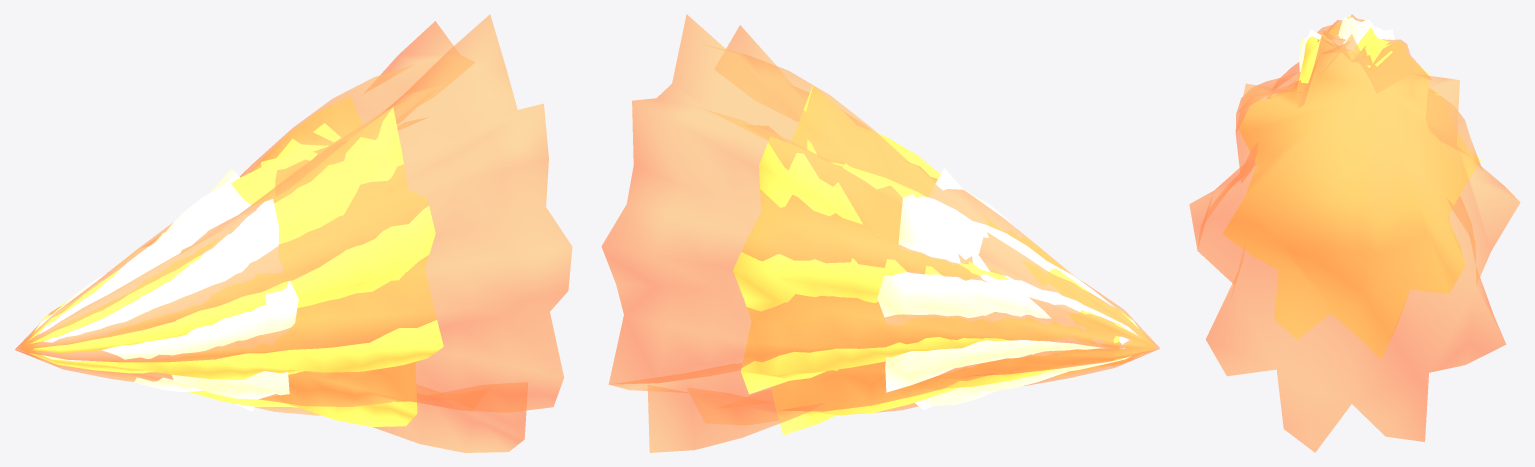
The model's file is VFX_04_四娃_剪纸烈火舌喷射.glb.
The picture shows the model from 3 angles, left to right: view 1: azimuth 30°, elevation 25°; view 2: azimuth 150°, elevation 25°; view 3: azimuth 270°, elevation 25°; orthographic projection.
Parts seen in each view (by area): view 1: FireCone_0, FireCone_1, FireCone_2; view 2: FireCone_0, FireCone_1, FireCone_2; view 3: FireCone_0, FireCone_1, FireCone_2.
Part boxes in pixels (x1,y1,x2,y2): FireCone_0: (15, 14, 572, 452); FireCone_1: (19, 96, 443, 426); FireCone_2: (34, 168, 298, 411); FireCone_0: (601, 14, 1159, 452); FireCone_1: (733, 85, 1155, 435); FireCone_2: (877, 168, 1138, 410); FireCone_0: (1189, 14, 1520, 452); FireCone_1: (1223, 16, 1480, 358); FireCone_2: (1296, 17, 1394, 80).
Bounding box in the file's own units: 3.4 × 2.9 × 2.08.
